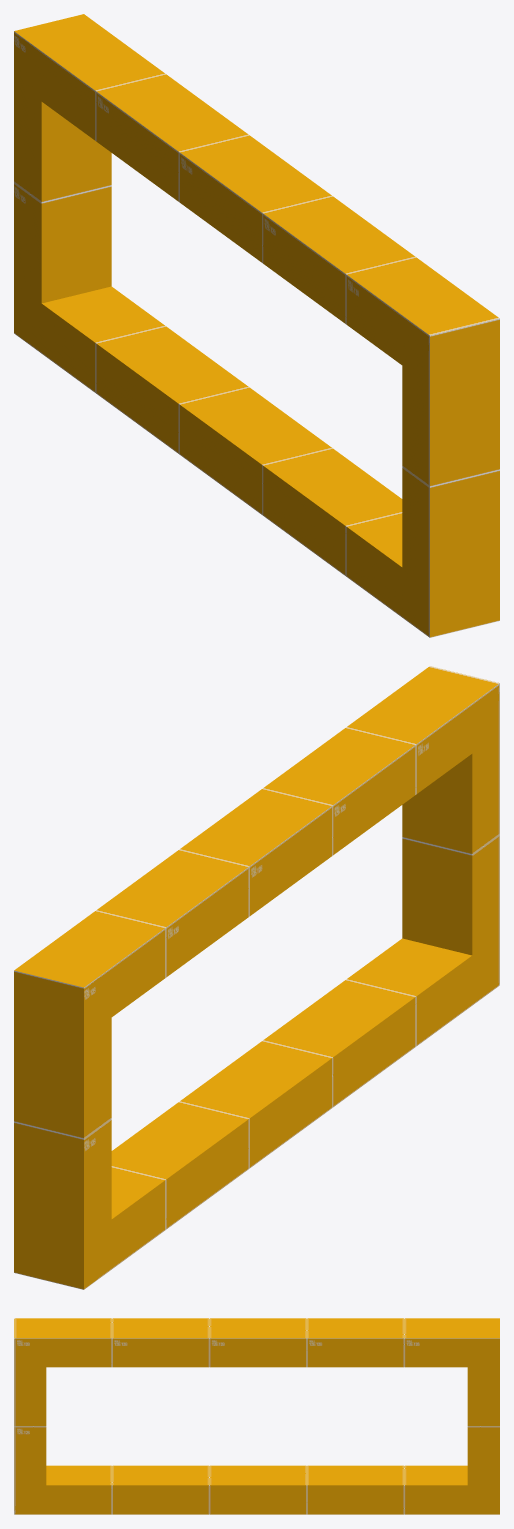
File: WallBigWindow.fbx
3 renders of one model, top to bottom at view 1: azimuth 30°, elevation 25°; view 2: azimuth 150°, elevation 25°; view 3: azimuth 270°, elevation 25°, orthographic. The views are drawn at different scales.
Parts seen in each view (by area): view 1: WallBigWindow; view 2: WallBigWindow; view 3: WallBigWindow.
Part boxes in pixels (left/top/right/bottom): WallBigWindow: left=14, top=14, right=499, bottom=637; WallBigWindow: left=14, top=666, right=499, bottom=1289; WallBigWindow: left=14, top=1318, right=499, bottom=1514.
Bounding box in the file's own units: 1.24 × 5.13 × 12.8.
